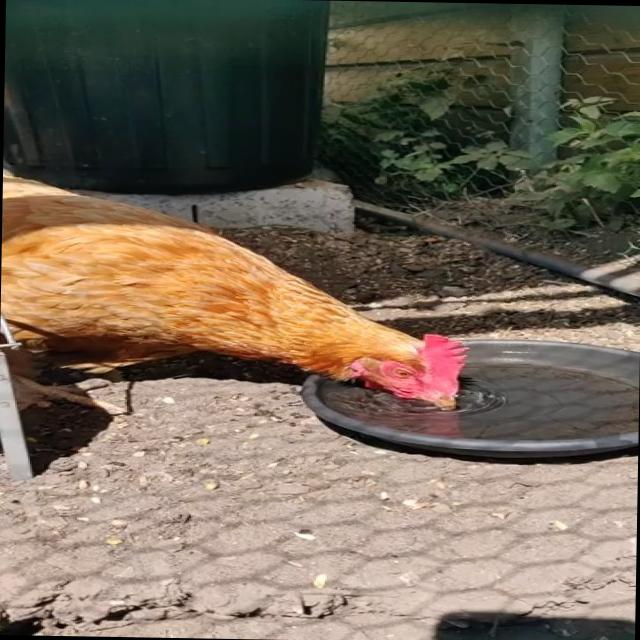drinking: (0, 180, 496, 411)
